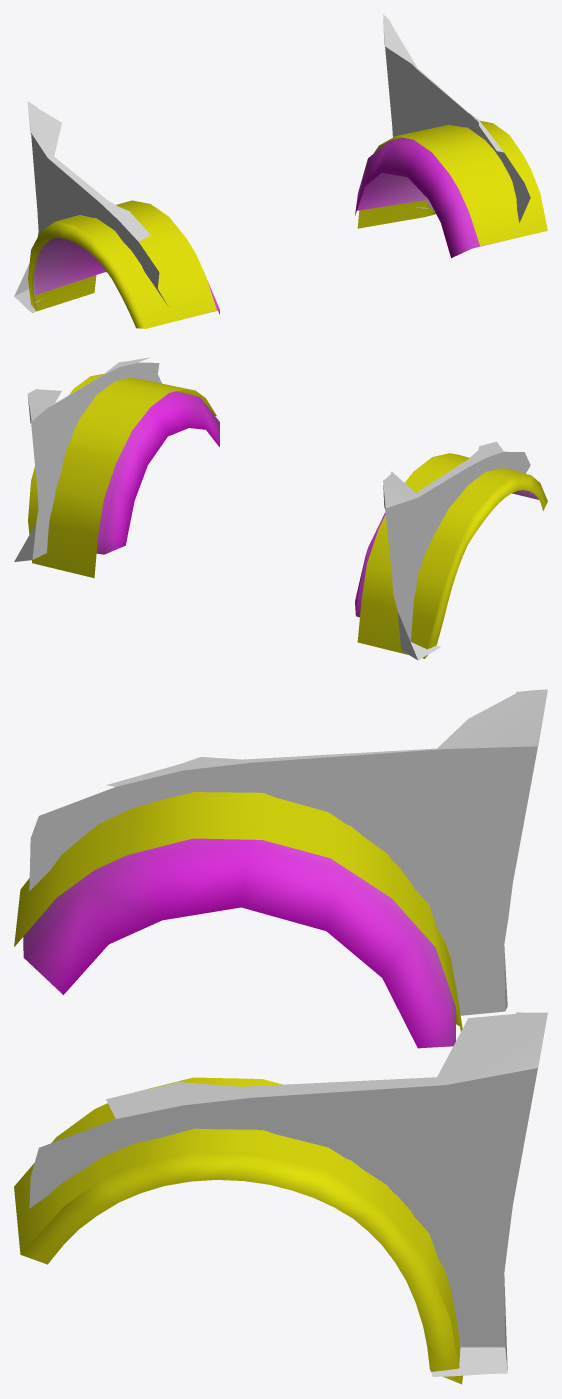
Rendered from Car_Mini_CountrymanJCW_2017_FendersChassisF_SetA.fbx.
3 views of the same model, one above another, from view 1: azimuth 30°, elevation 25°; view 2: azimuth 150°, elevation 25°; view 3: azimuth 270°, elevation 25° (orthographic). The views are drawn at different scales.
Visible parts, largest first — view 1: FendersChassisF 6; view 2: FendersChassisF 6; view 3: FendersChassisF 6.
Boxes of the visible parts, left/top/right/bottom form: FendersChassisF 6: left=14, top=14, right=547, bottom=328; FendersChassisF 6: left=14, top=357, right=547, bottom=660; FendersChassisF 6: left=14, top=689, right=547, bottom=1384.
Bounding box in the file's own units: 1.79 × 0.7685 × 1.05.
